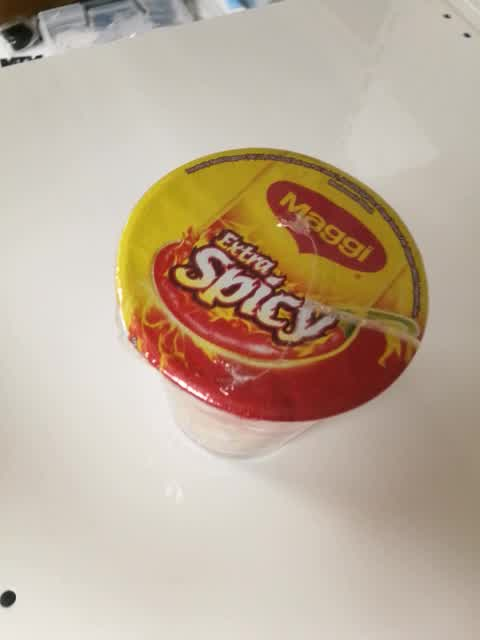maggi: (114, 145, 430, 460)
